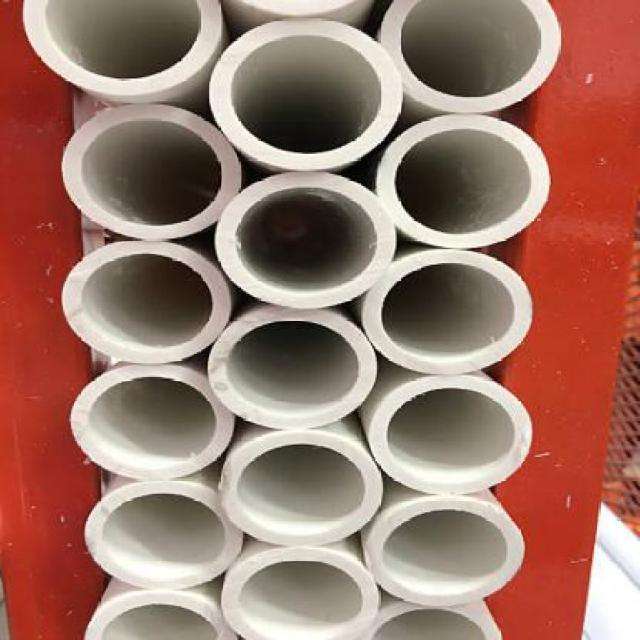pipe: (210, 17, 403, 171), (62, 103, 242, 240), (215, 173, 395, 310), (376, 114, 550, 248), (61, 239, 232, 364), (208, 308, 379, 430), (379, 0, 562, 114), (363, 250, 532, 373), (368, 376, 530, 494), (25, 0, 222, 97), (220, 429, 383, 546), (72, 365, 235, 481), (85, 479, 244, 590), (365, 497, 525, 605), (222, 546, 379, 639), (85, 592, 229, 640), (365, 606, 501, 640)
